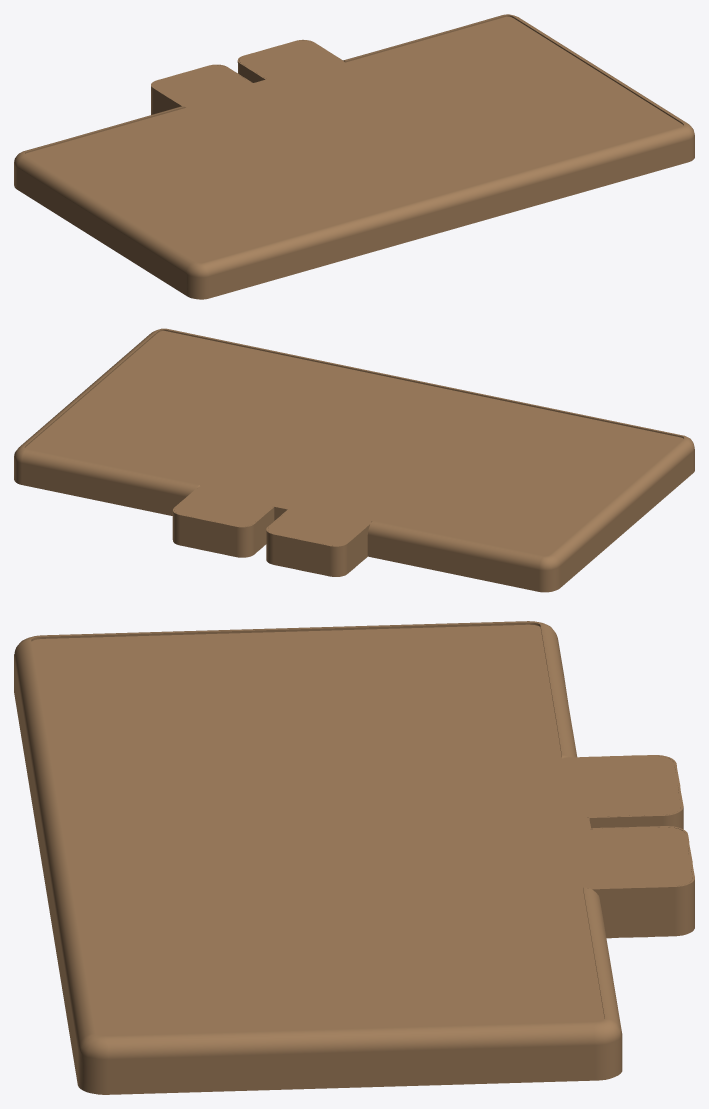
Rendered from ergoflex-large-shelf.glb.
3 renders of one model, top to bottom at view 1: azimuth 30°, elevation 25°; view 2: azimuth 150°, elevation 25°; view 3: azimuth 270°, elevation 25°, orthographic. The views are drawn at different scales.
Parts seen in each view (by area): view 1: Supplied large-shelf part 0; view 2: Supplied large-shelf part 0; view 3: Supplied large-shelf part 0.
Part boxes in pixels (x1=…): Supplied large-shelf part 0: x1=14, y1=14, x2=694, y2=299; Supplied large-shelf part 0: x1=14, y1=328, x2=694, y2=592; Supplied large-shelf part 0: x1=14, y1=621, x2=694, y2=1094.
Bounding box in the file's own units: 0.8 × 0.0449 × 0.5378.
